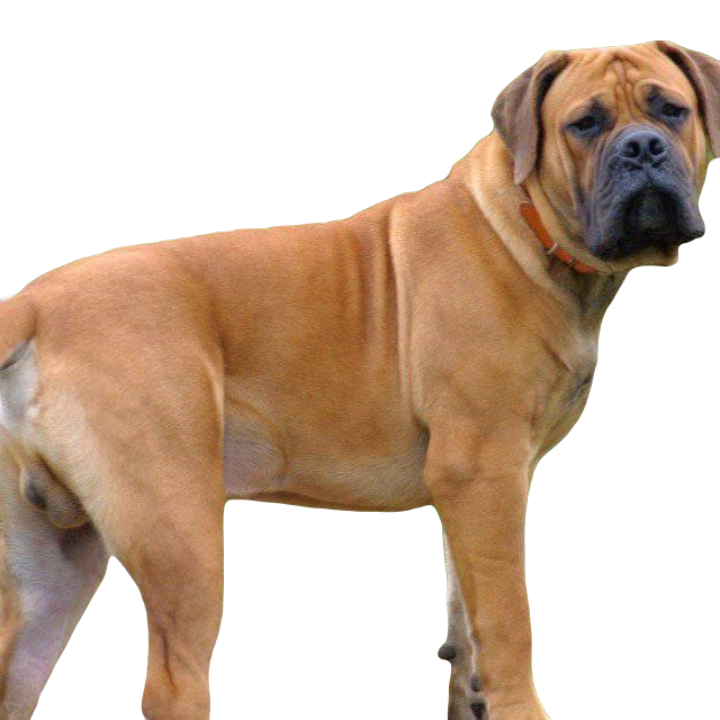Dog: (0, 38, 719, 719)
